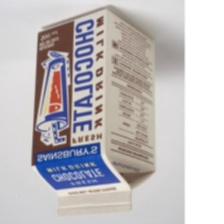carton: (26, 4, 169, 218)
